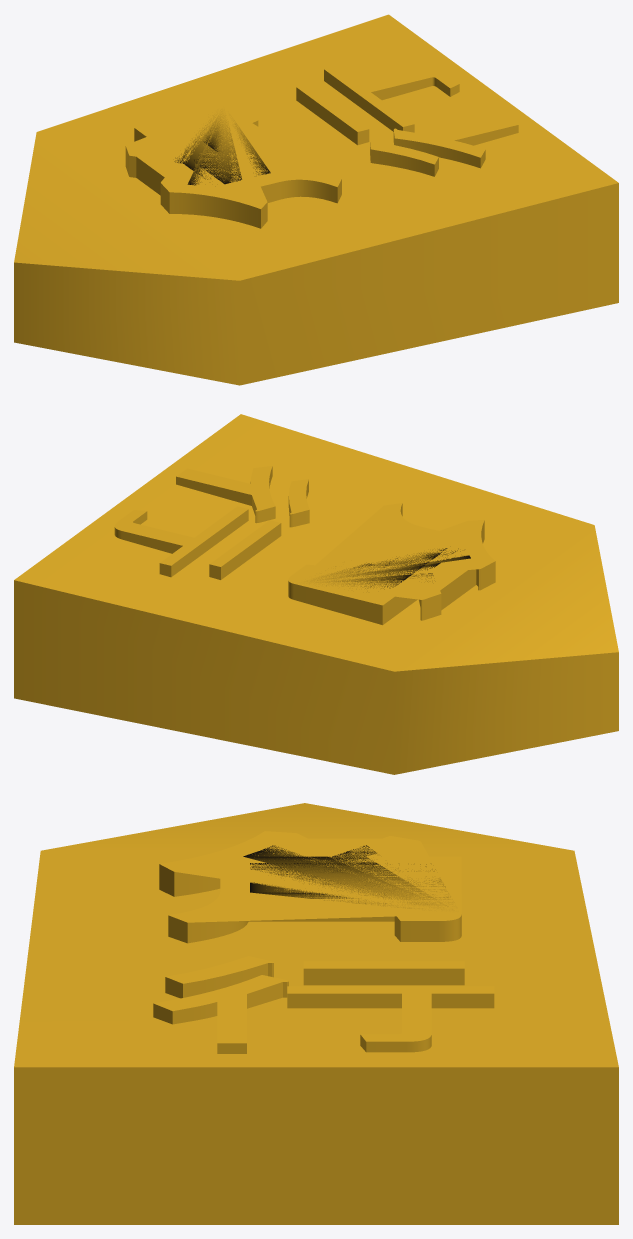
The model's file is bishop.fbx.
3 renders of one model, top to bottom at view 1: azimuth 30°, elevation 25°; view 2: azimuth 150°, elevation 25°; view 3: azimuth 270°, elevation 25°, orthographic. The views are drawn at different scales.
Visible parts, largest first — view 1: pCube1, typeMesh1; view 2: pCube1, typeMesh1; view 3: pCube1, typeMesh1.
Boxes of the visible parts, x1=… form: pCube1: x1=14, y1=14, x2=618, y2=385; typeMesh1: x1=125, y1=66, x2=518, y2=228; pCube1: x1=14, y1=414, x2=618, y2=774; typeMesh1: x1=114, y1=466, x2=495, y2=625; pCube1: x1=14, y1=803, x2=618, y2=1224; typeMesh1: x1=153, y1=831, x2=494, y2=1053.
Size of the model in its own units: 6.47 by 1.59 by 5.22.
